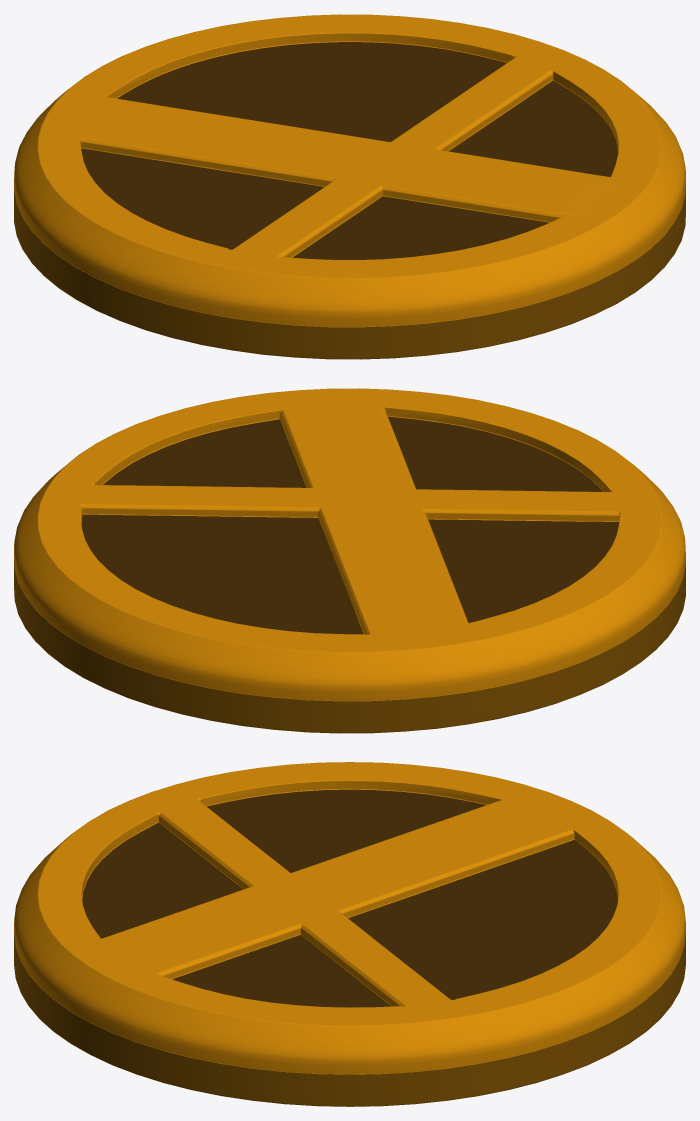
Rendered from trophy.gltf.
3 renders of one model, top to bottom at view 1: azimuth 30°, elevation 25°; view 2: azimuth 150°, elevation 25°; view 3: azimuth 270°, elevation 25°, orthographic.
Parts seen in each view (by area): view 1: Trophy Base; view 2: Trophy Base; view 3: Trophy Base.
Part boxes in pixels (left/top/right/bottom): Trophy Base: left=14, top=14, right=685, bottom=359; Trophy Base: left=14, top=388, right=685, bottom=733; Trophy Base: left=14, top=762, right=685, bottom=1106.
Size of the model in its own units: 1.99 by 0.233 by 1.99.
